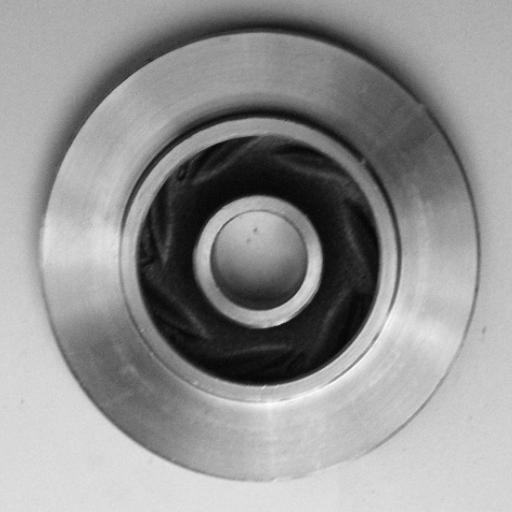scratch: (247, 445, 378, 494)
unpolished_casting: (38, 27, 483, 487)
